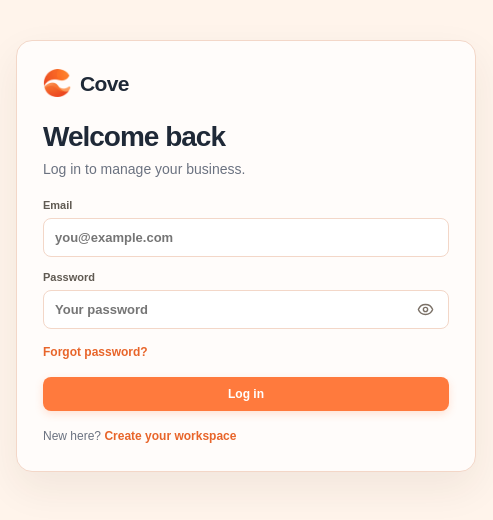
Scenario: LoginPage cold-start handling › does not retry incorrect credentials
Type " seller@example.com " into the field named "email" at (246, 238), box x1=43 y1=218 x2=449 y2=257
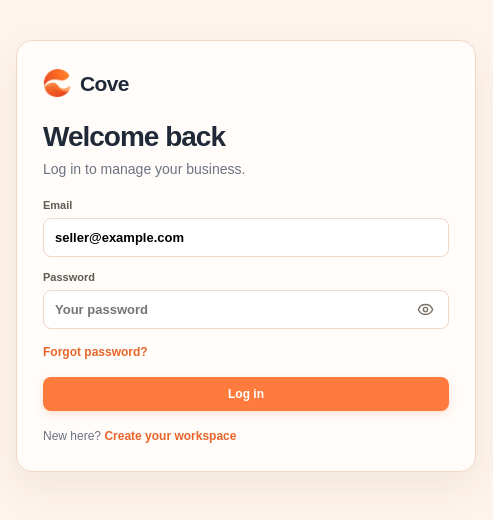
Type "secret123" into the password field named "password" at (246, 310), box x1=43 y1=290 x2=449 y2=329
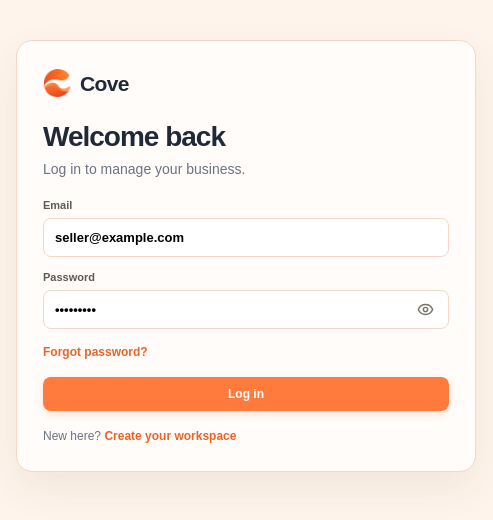
Click the button "Log in" at (246, 394), box x1=43 y1=377 x2=449 y2=411
Wait 10000 ms
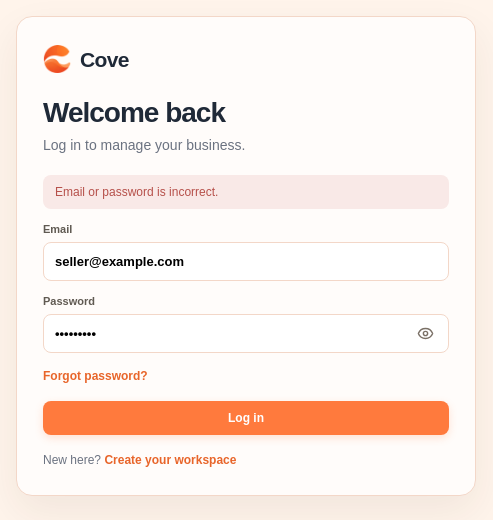
Result: the message reads "Email or password is incorrect." at x1=55 y1=185 x2=218 y2=199
